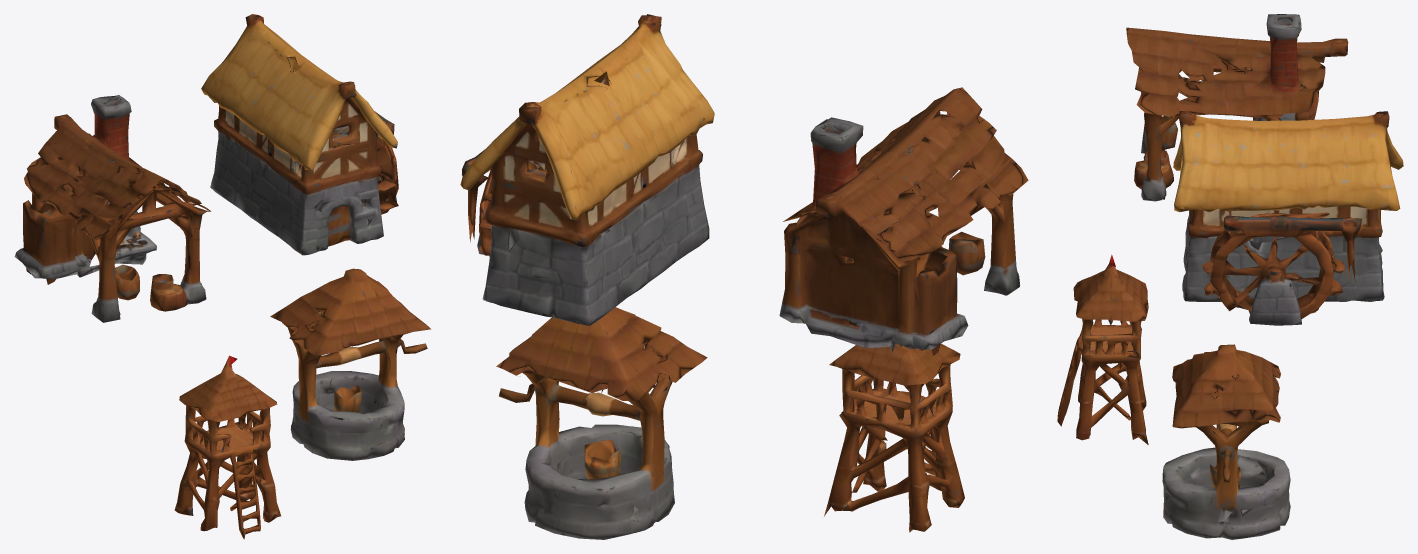
3 renders of one model, left to right at view 1: azimuth 30°, elevation 25°; view 2: azimuth 150°, elevation 25°; view 3: azimuth 270°, elevation 25°, orthographic. The views are drawn at different scales.
Visible parts, largest first — view 1: world; view 2: world; view 3: world.
Boxes of the visible parts, x1,y1,x2,y2 form: world: [14, 14, 431, 539]; world: [460, 14, 1028, 539]; world: [1057, 14, 1403, 539].
Bounding box in the file's own units: 0.9925 × 0.9412 × 0.7512.
1 material, 1 textured.
